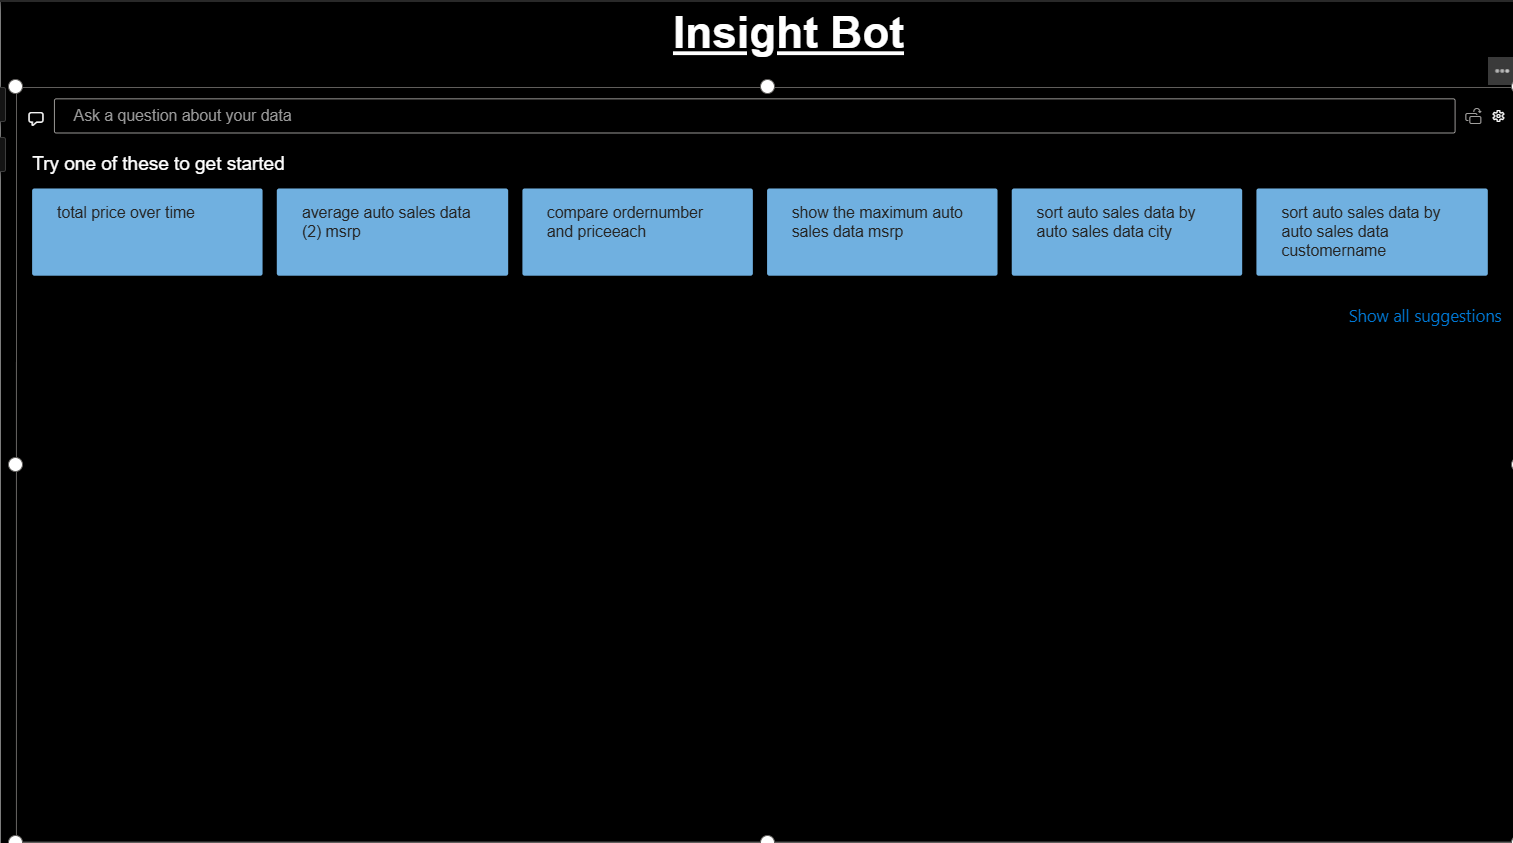

The dashboard page shown, as its layout file describes it:
{"tool":"powerbi","page":{"name":"Q&A","canvas":[1280,720],"ordinal":5},"visuals":[{"type":"textbox","box":[524.1,0,280.5,71.7],"z":0},{"type":"qnaVisual","box":[12.7,71.7,1267.5,638],"z":1000}]}

Visuals, with their boxes on the page's 1280x720 design canvas (x1, y1, x2, y2). These are canvas units, not pixel positions in the 1513x843 screenshot, which may show the page scaled, cropped or inside an application window:
textbox: 524,0,805,72
qnaVisual: 13,72,1280,710
